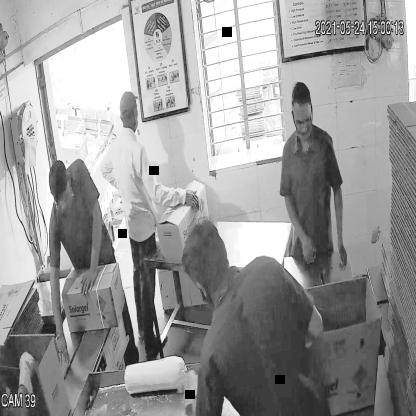goggles: (290, 110, 315, 133)
